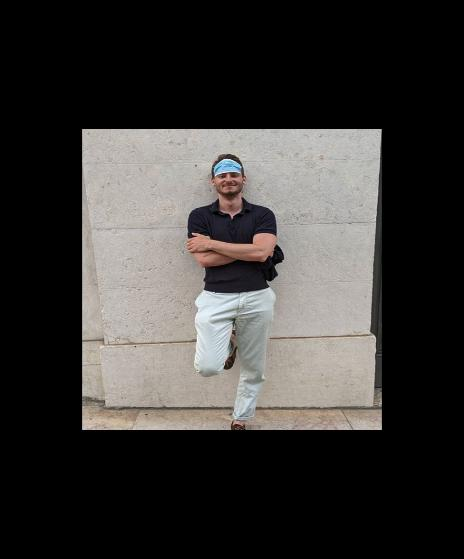mask_weared_incorrect: (212, 163, 245, 194)
